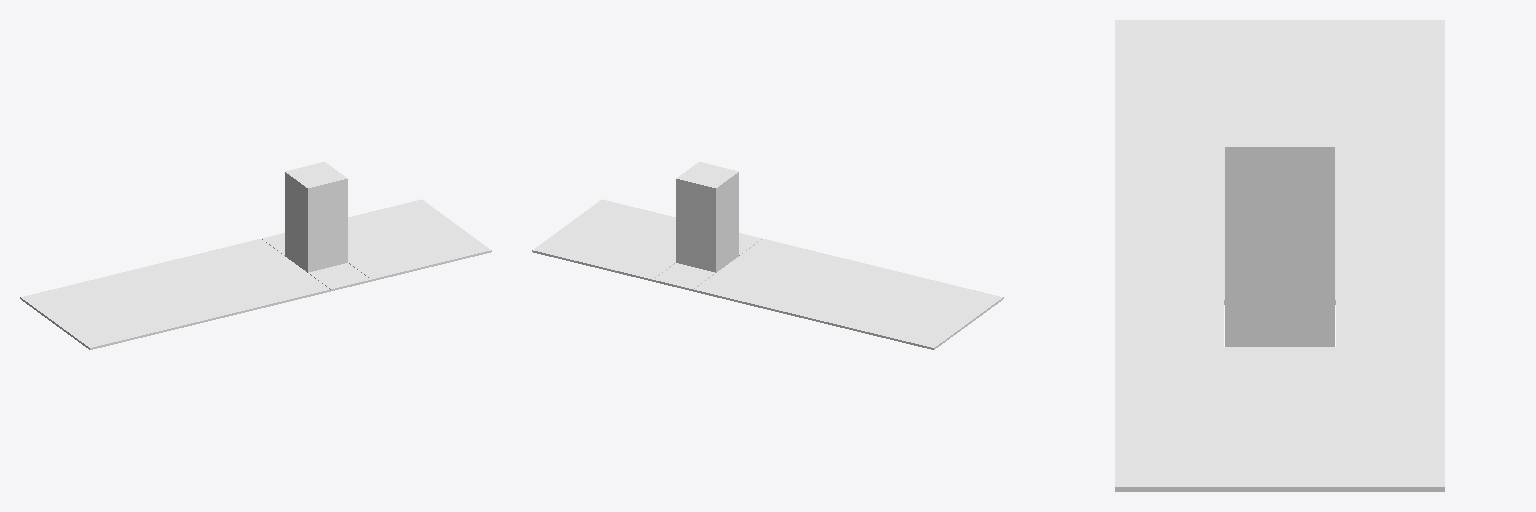
robot.urdf — stair_bauzil:
<robot name="stair_bauzil">
  <link name="base_link">
    <visual>
      <origin xyz="0 0 0" rpy="0 0 0" />
      <geometry>
        <mesh filename="package://hpp_environments/meshes/multicontact/obstacle.stl"/>
      </geometry>
      <material name="white">
        <color rgba="1 1 1 1"/>
      </material>
    </visual>
    <collision>
      <origin xyz="0 0 0" rpy="0 0 0" />
      <geometry>
        <mesh filename="package://hpp_environments/meshes/multicontact/obstacle.stl"/>
      </geometry>
    </collision>
  </link>
</robot>

--- Render facts (derived) ---
Views: 3 orthographic renders of the robot side by side, from view 1: azimuth 30°, elevation 25°; view 2: azimuth 150°, elevation 25°; view 3: azimuth 270°, elevation 25°.
Model stair_bauzil with 1 links and 0 joints (none), rooted at base_link, posed all joints at 0.
Visible links, largest first — view 1: base_link; view 2: base_link; view 3: base_link.
Boxes of the visible links, x1,y1,x2,y2 form: base_link: (20, 162, 491, 349); base_link: (532, 162, 1003, 349); base_link: (1115, 20, 1444, 491).
Bounding box of the posed robot: 10 × 3 × 2.05 m (x, y, z).
1 mesh visuals loaded from 1 distinct referenced files (1 binary STL).